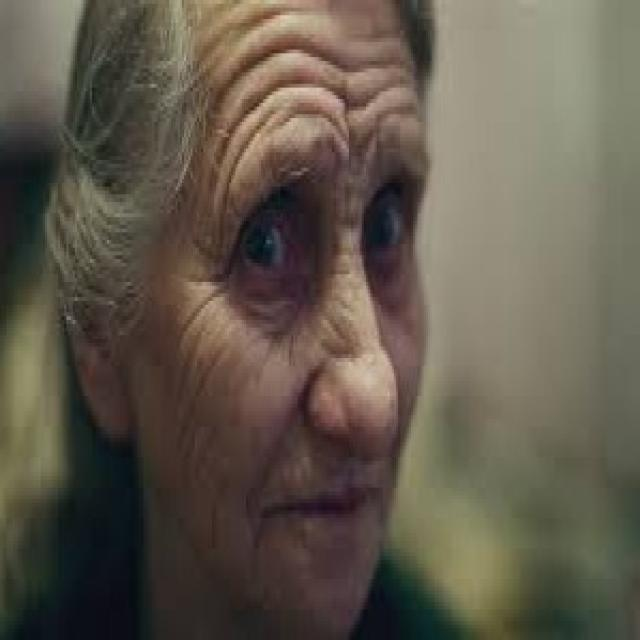Wrinkles: (225, 78, 413, 157), (215, 43, 412, 114), (220, 106, 281, 248), (354, 106, 412, 182), (266, 107, 347, 144), (178, 360, 212, 445), (178, 339, 195, 403), (188, 303, 204, 322), (204, 289, 222, 303), (181, 322, 188, 338)
